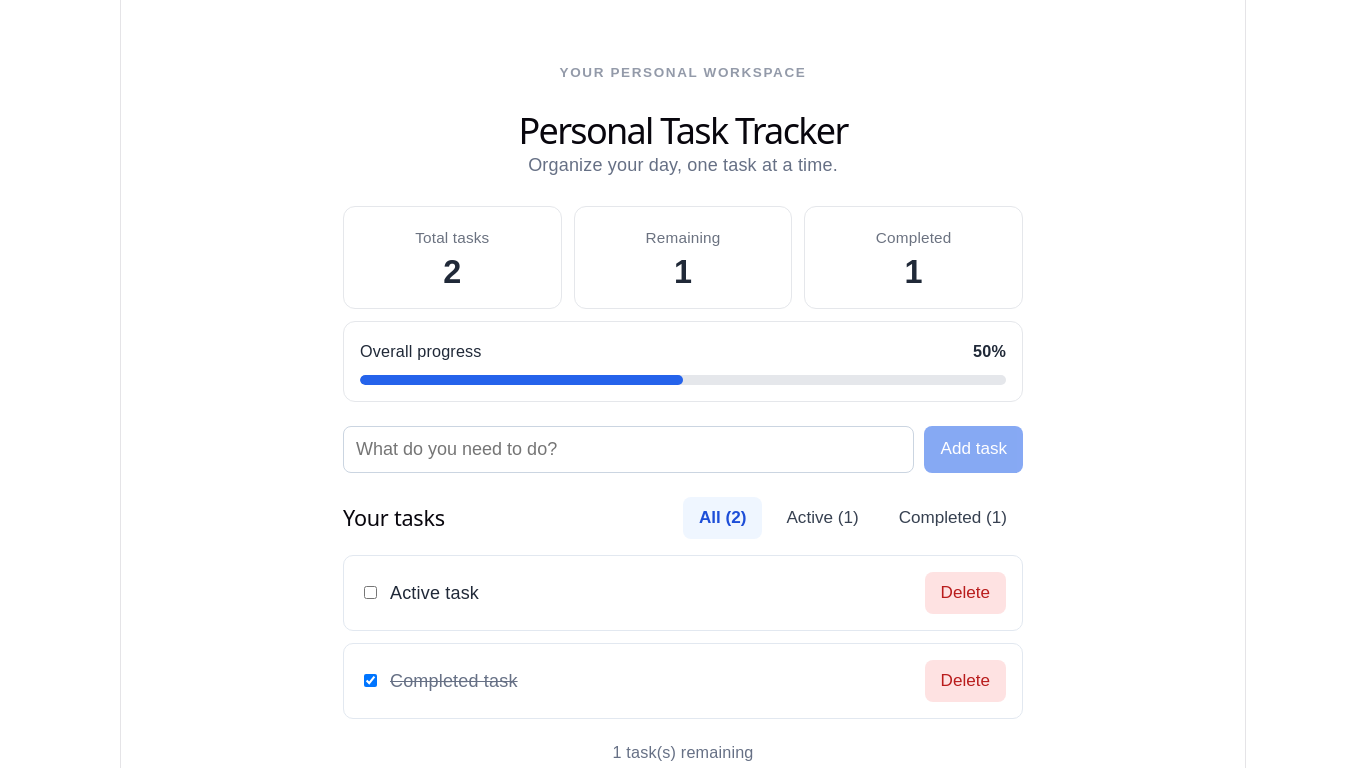
Test: Personal Task Tracker › filters tasks by active and completed status
Check: the text "Active task" is shown, box [390,580,479,606]
Check: the text "Completed task" is shown, box [390,668,518,694]
Step 1. Click the button "Active (1)" → click(823, 518), box [770,497,875,539]
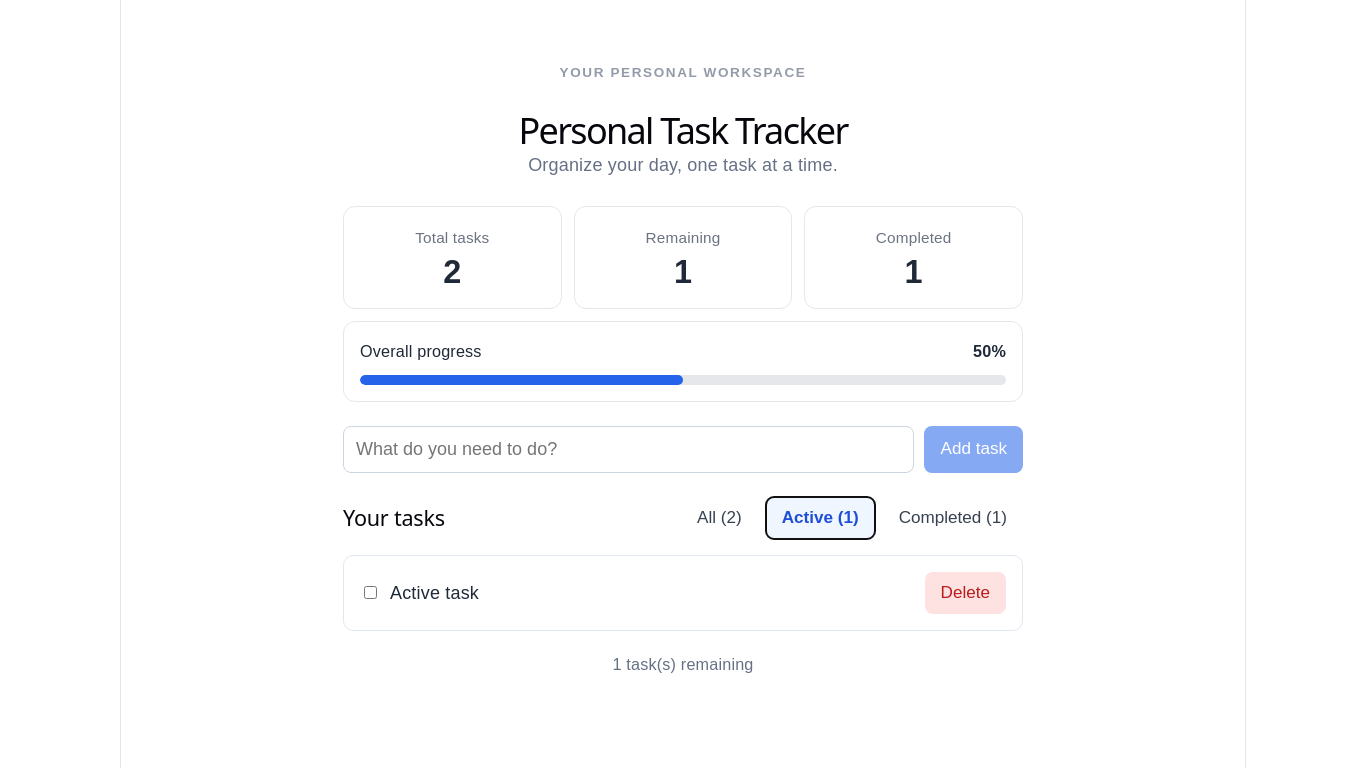
Check: the text "Active task" is shown, box [390,580,479,606]
Check: the text "Completed task" is gone
Step 2. Click the button "Completed (1)" → click(953, 518), box [883,497,1023,539]
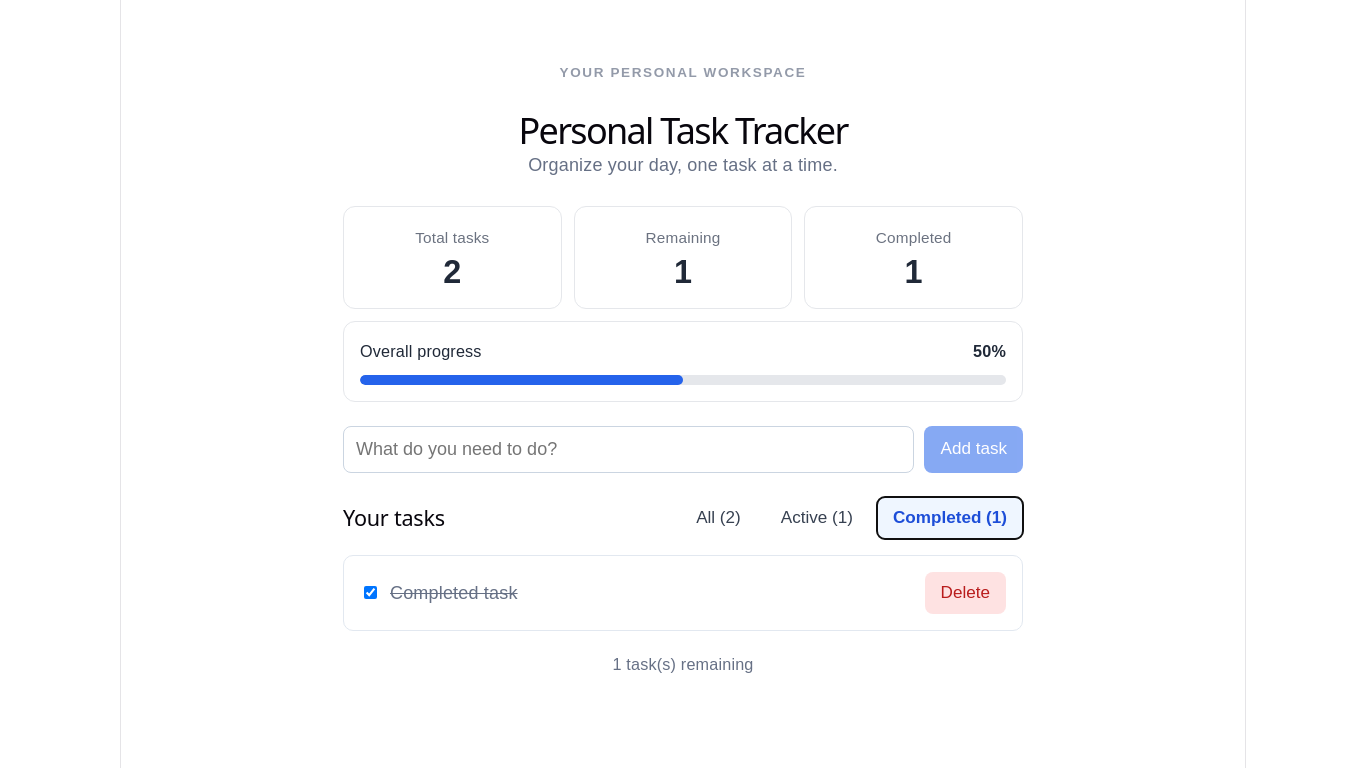
Check: the text "Completed task" is shown, box [390,580,518,606]
Check: the text "Active task" is gone
